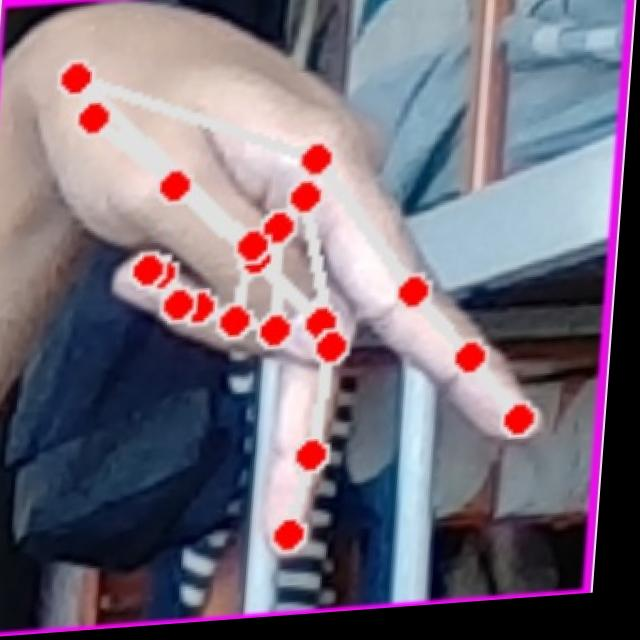P: (0, 0, 584, 586)
